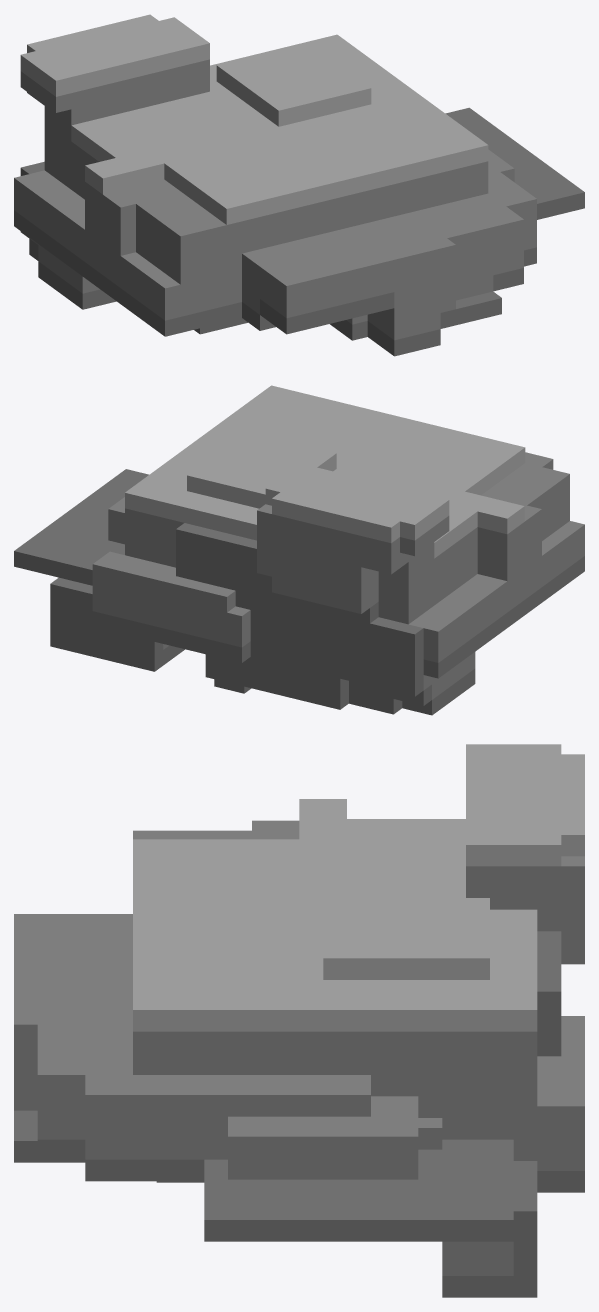
Rendered from Cloud.obj.
3 renders of one model, top to bottom at view 1: azimuth 30°, elevation 25°; view 2: azimuth 150°, elevation 25°; view 3: azimuth 270°, elevation 25°, orthographic. The views are drawn at different scales.
Size of the model in its own units: 2.9 by 1.4 by 2.4.
1 material, 1 textured.
